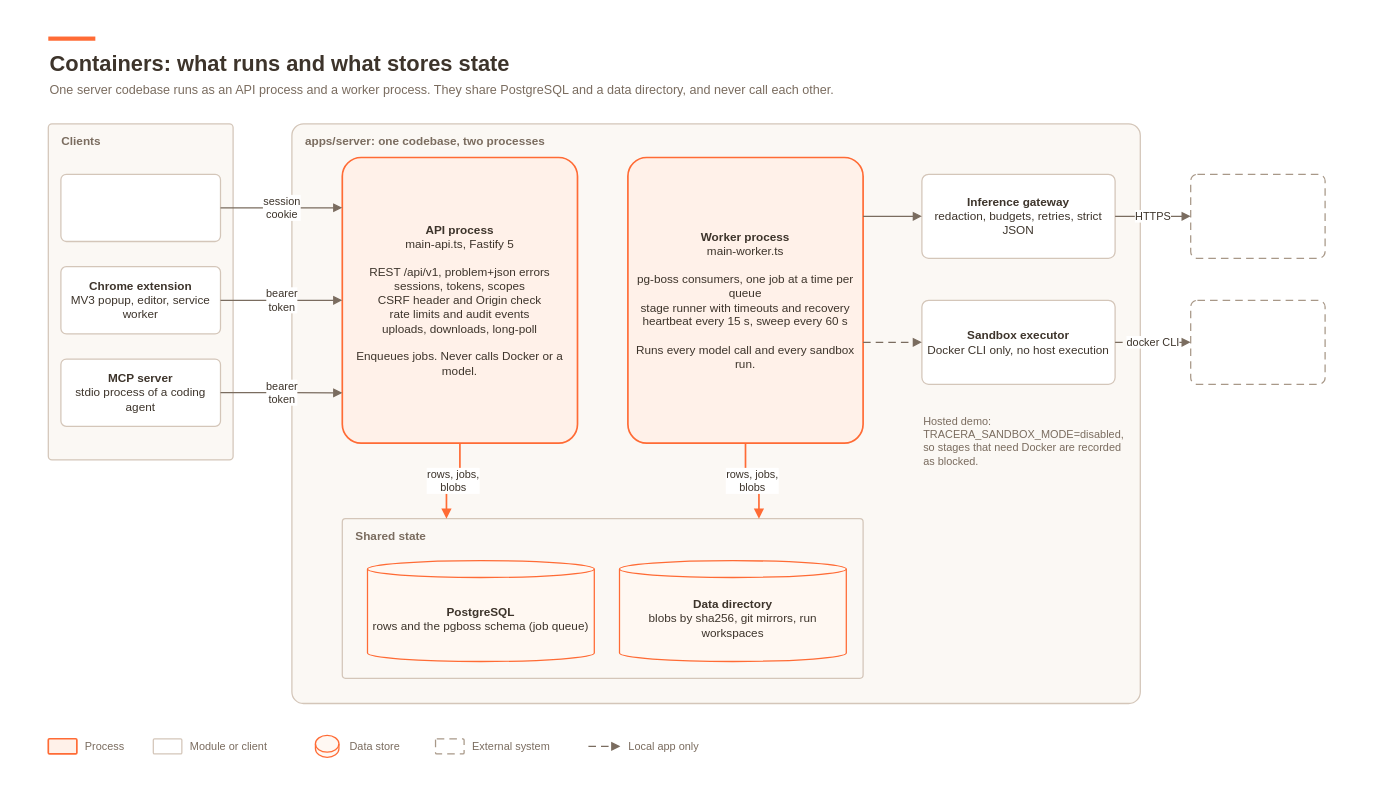
Image size: 1373x785. Some labels were removed from this diagram. Here are the shapes that lost their labels. From the top down, the centre of each, then its label:
the point at 140,207: Web app React 19, Vite, TanStack Query
the point at 1257,216: Meta Model API Muse Spark 1.3
the point at 1257,342: Docker Engine disposable containers, local only
